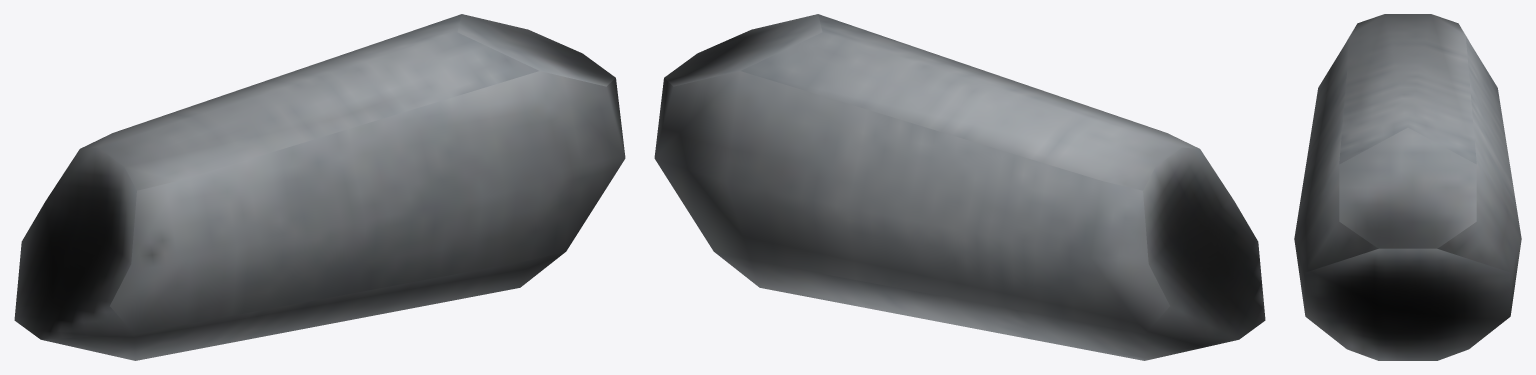
The model's file is grave_marine_forearm_r.glb.
3 renders of one model, left to right at view 1: azimuth 30°, elevation 25°; view 2: azimuth 150°, elevation 25°; view 3: azimuth 270°, elevation 25°, orthographic. The views are drawn at different scales.
Parts seen in each view (by area): view 1: scythe_marine_forearm_r; view 2: scythe_marine_forearm_r; view 3: scythe_marine_forearm_r.
Part boxes in pixels (box(x1,y1,x2,y2)): scythe_marine_forearm_r: box(14, 14, 625, 360); scythe_marine_forearm_r: box(654, 14, 1265, 360); scythe_marine_forearm_r: box(1294, 14, 1521, 360).
Bounding box in the file's own units: 1.61 × 0.6715 × 0.6256.
Materials: 1 (1 with a texture image).
